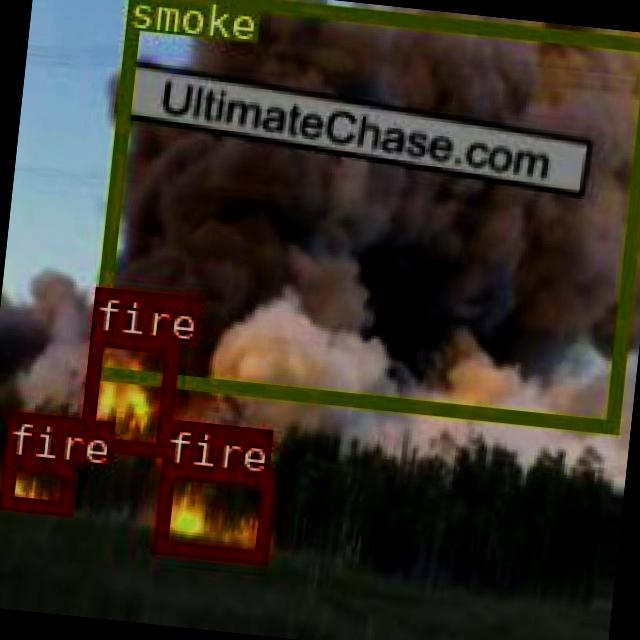fire: (76, 330, 177, 454), (151, 464, 272, 560), (0, 454, 73, 510)
smoke: (87, 0, 640, 429)
